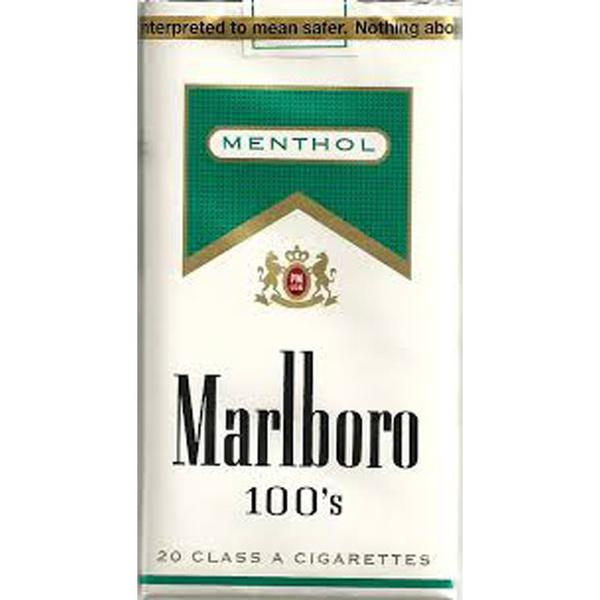marlboro_mentol: (143, 6, 455, 594)
